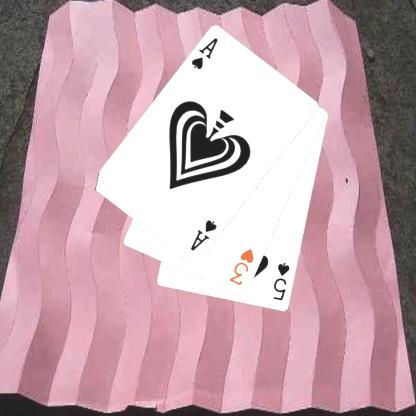3H: (226, 246, 256, 287)
5S: (271, 260, 291, 303)
AS: (187, 217, 219, 253), (188, 35, 220, 71)
